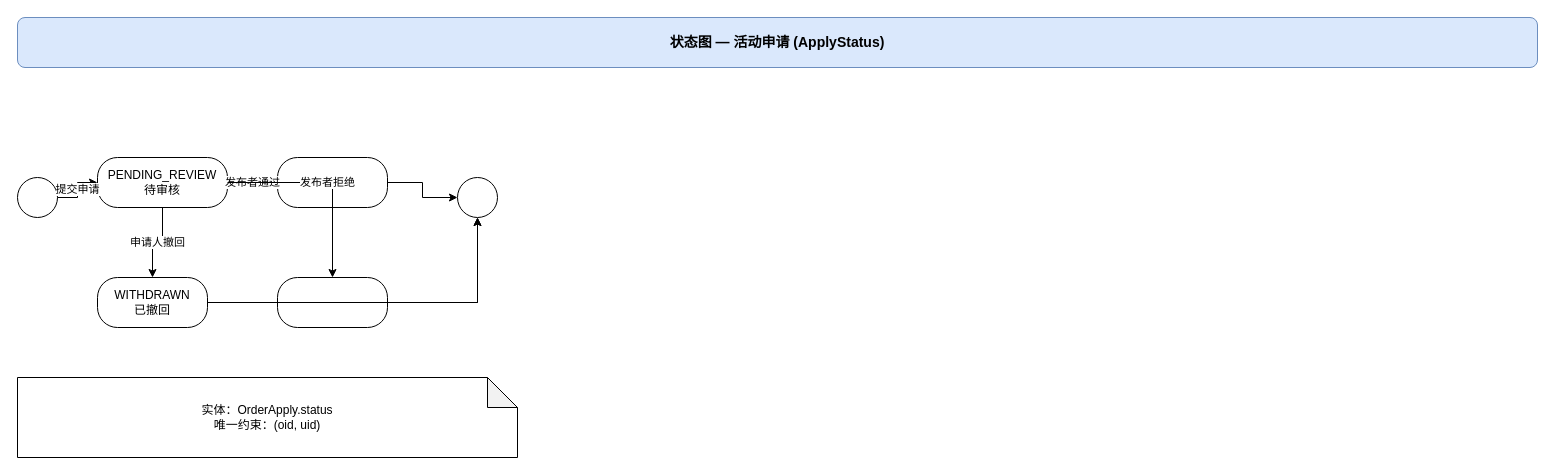
This 1555x475 diagram has some shape labels left out. Each missing label, with the centre of its shape:
"APPROVED 已通过" goes at [332,182].
"REJECTED 已拒绝" goes at [332,302].
